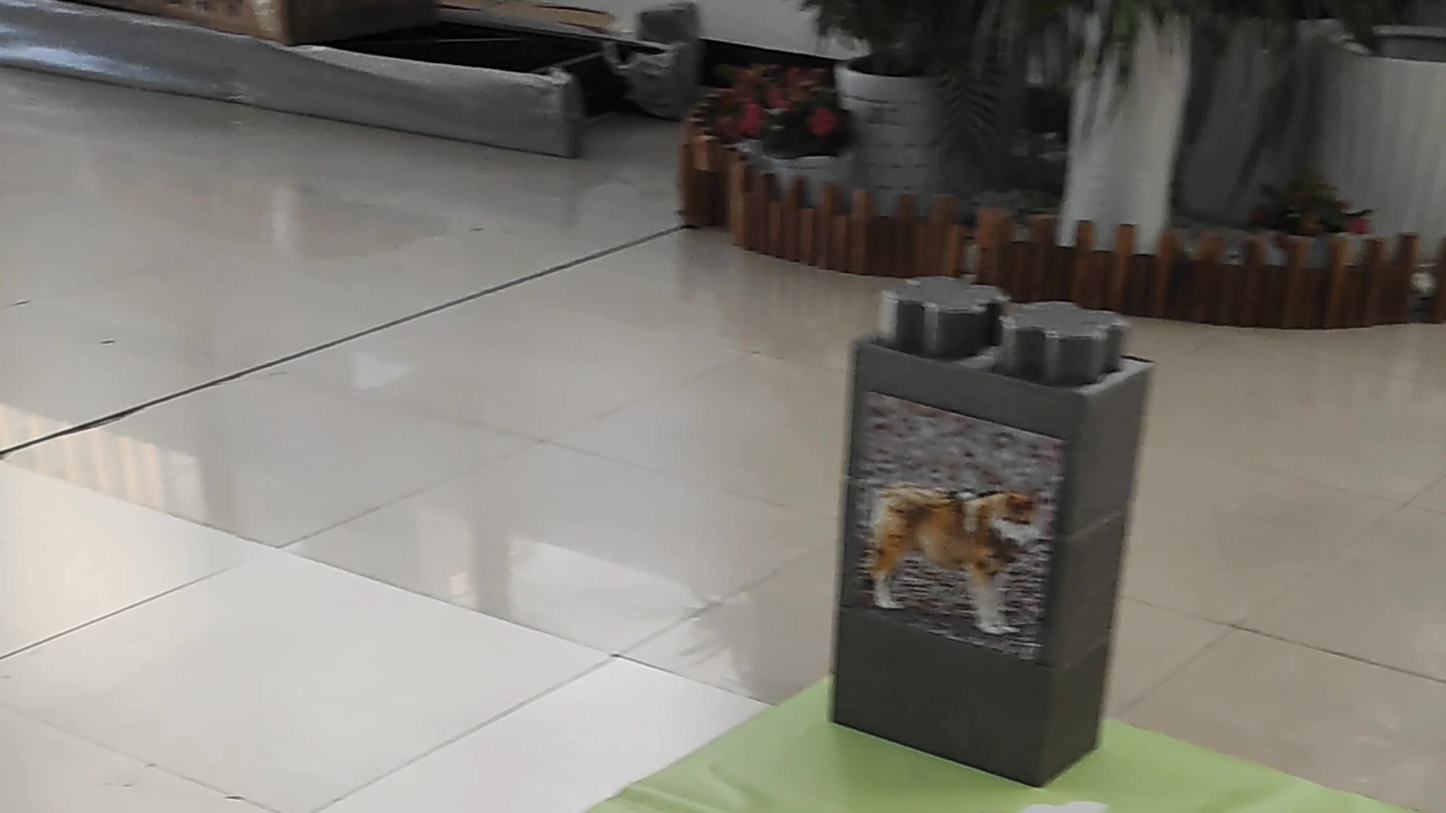wolf: (850, 458, 1058, 651)
